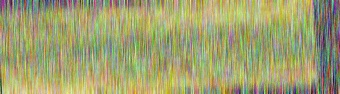Bacterial_Leaf_Blight: (21, 76, 75, 92), (266, 67, 309, 85), (75, 71, 128, 85), (133, 8, 160, 20), (223, 81, 259, 89), (190, 6, 211, 19), (83, 8, 102, 22), (19, 25, 40, 37), (239, 58, 255, 73), (223, 60, 238, 73), (260, 16, 283, 24), (179, 58, 193, 71), (183, 68, 202, 77), (155, 61, 172, 70), (308, 58, 316, 74), (206, 77, 222, 85), (50, 16, 65, 24), (292, 7, 312, 12), (156, 79, 168, 87), (235, 0, 248, 5)
